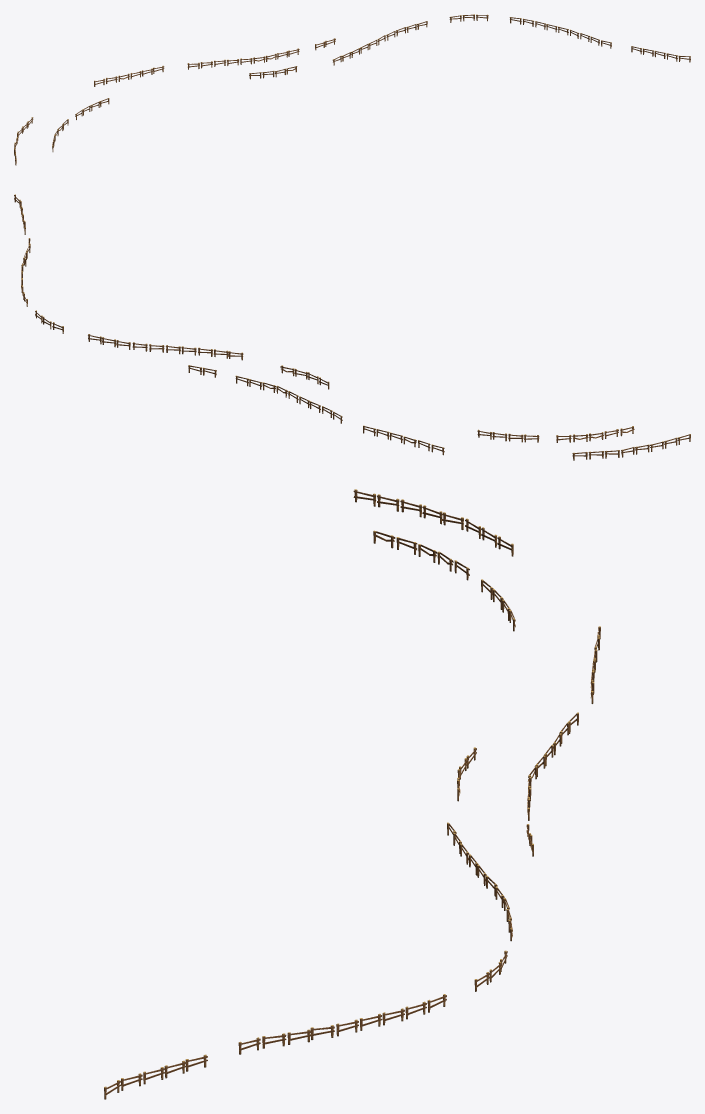
Rendered from Area_06_3.fbx.
3 views of the same model, one above another, from view 1: azimuth 30°, elevation 25°; view 2: azimuth 150°, elevation 25°; view 3: azimuth 270°, elevation 25° (orthographic). The views are drawn at different scales.
Parts seen in each view (by area): view 1: Area_06_3; view 2: Area_06_3; view 3: Area_06_3.
Part boxes in pixels (left/top/right/bottom): Area_06_3: left=14, top=14, right=690, bottom=165; Area_06_3: left=14, top=194, right=690, bottom=460; Area_06_3: left=104, top=489, right=600, bottom=1099.
Bounding box in the file's own units: 14732 × 149 × 5172.
